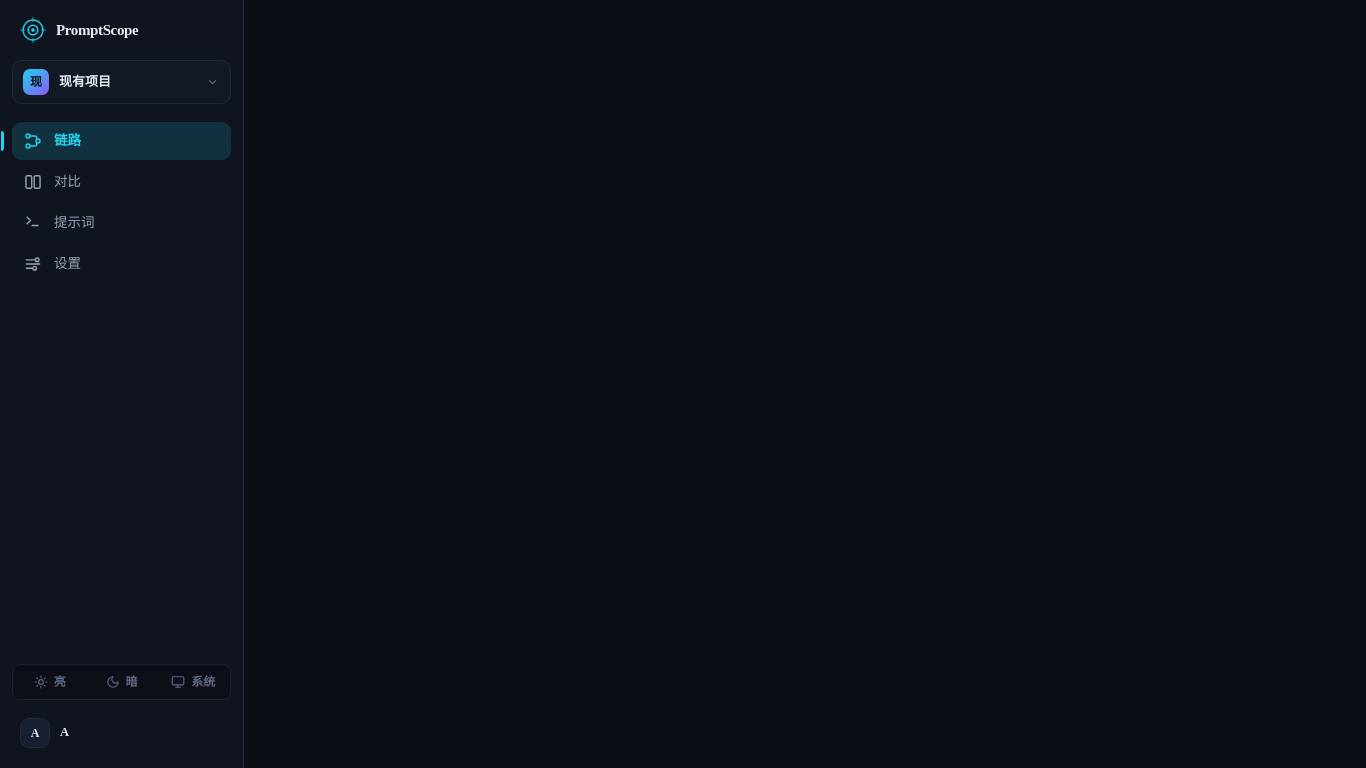
Test case: AppSidebar workspace switcher › creates a project, refreshes the list, and switches to it on success
The image size is (1366, 768).
Click the button with aria-label "切换项目".
click(122, 82)  # box [12,60,231,104]
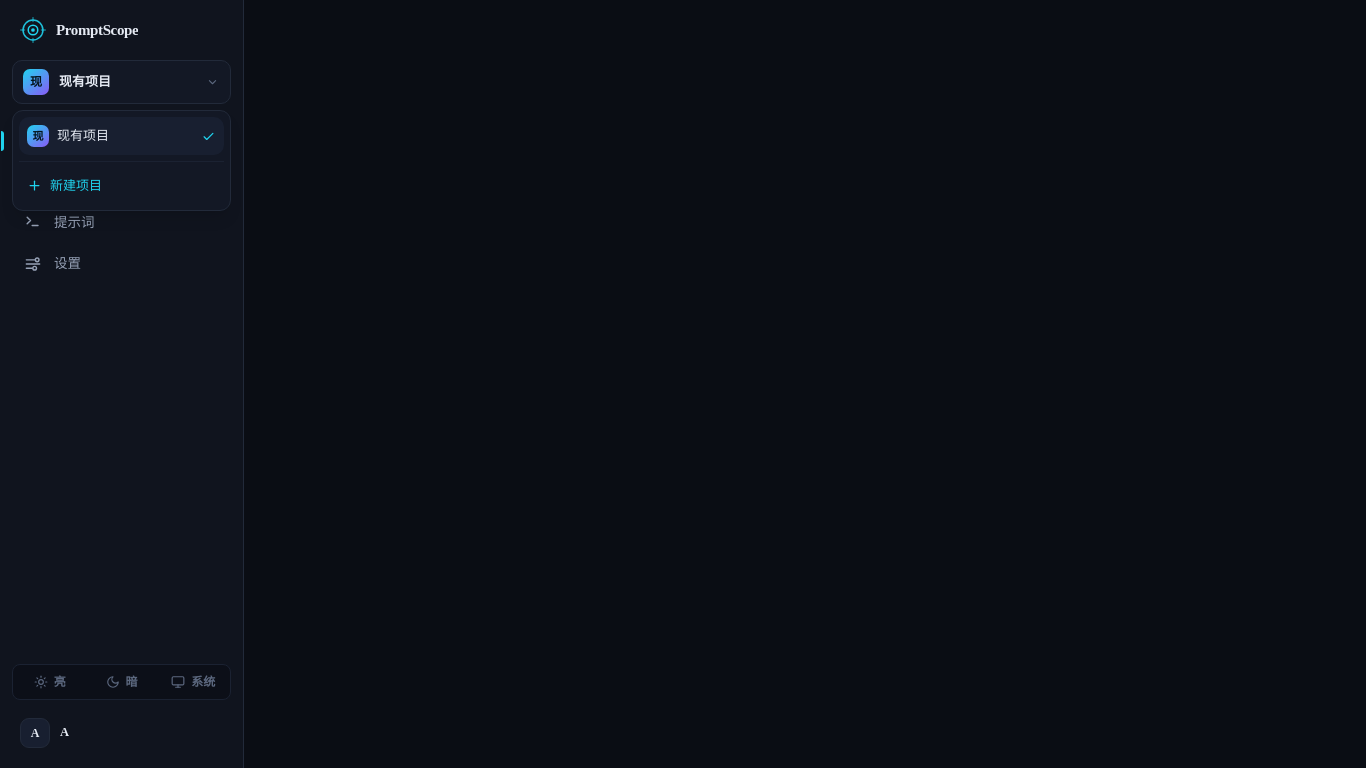
Click the button "新建项目".
click(122, 186)  # box [19,168,224,204]
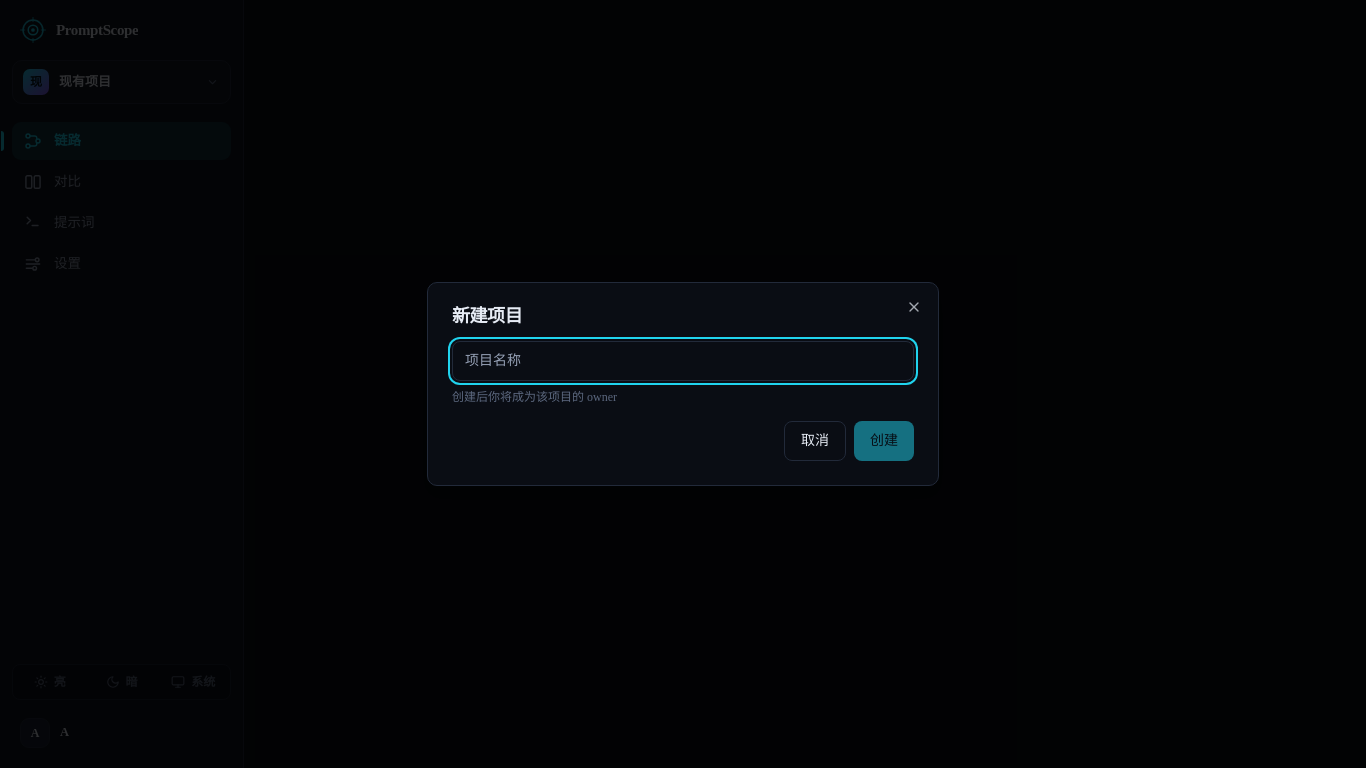
Type "新项目" into the field with placeholder "项目名称".
click(683, 361); type("新项目")  # box [452,341,914,381]
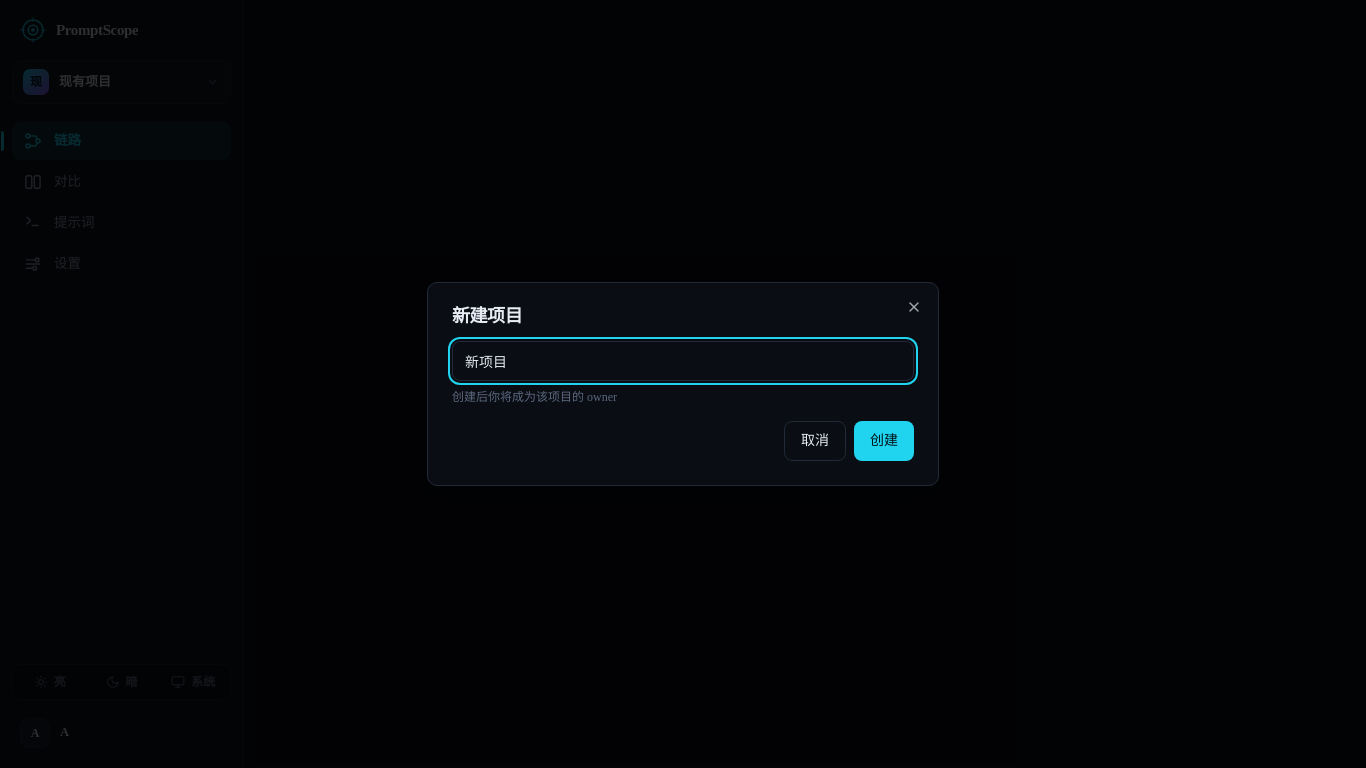
Click the button "创建".
click(884, 441)  # box [854,421,914,461]
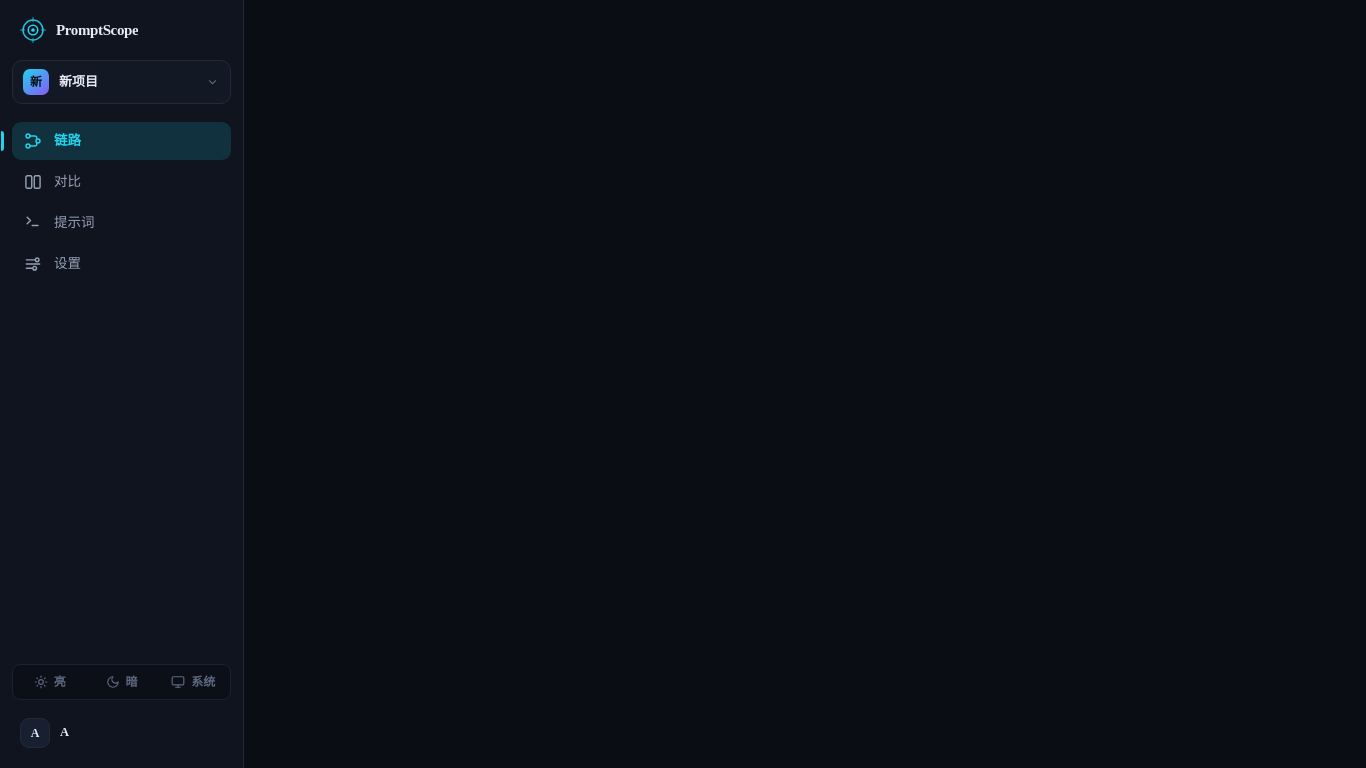
Result: the text "新项目" is shown at [59,74,98,89]
